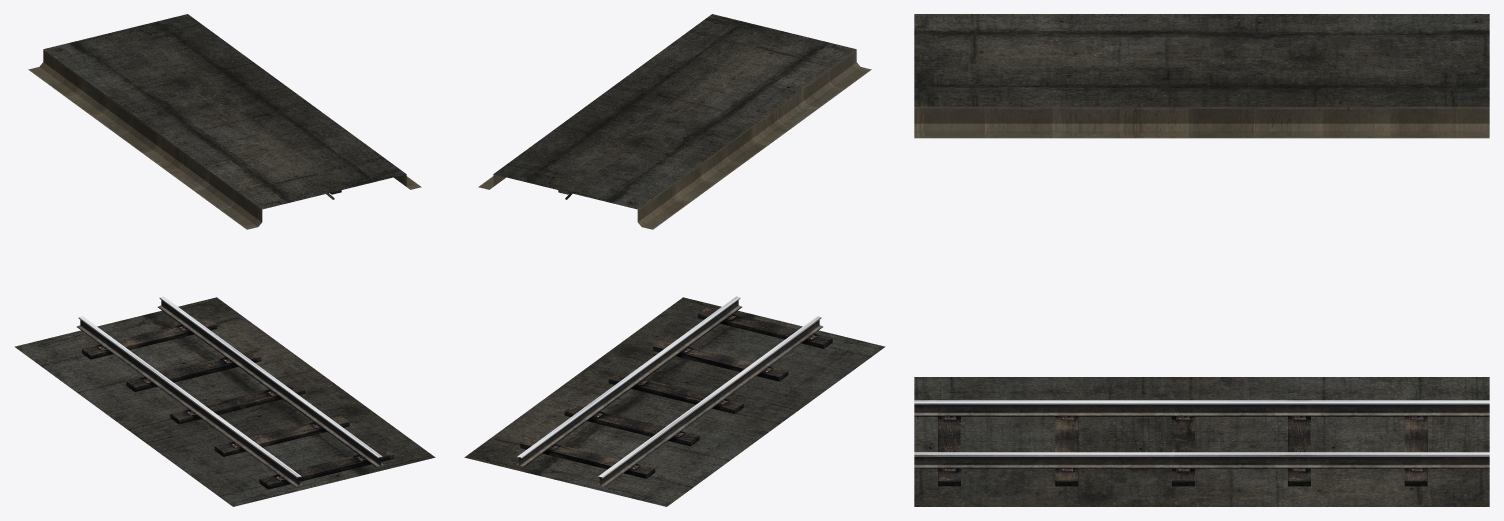
The model's file is TunnelMidA.fbx.
3 views of the same model, side by side, from view 1: azimuth 30°, elevation 25°; view 2: azimuth 150°, elevation 25°; view 3: azimuth 270°, elevation 25° (orthographic). The views are drawn at different scales.
Visible parts, largest first — view 1: TunnelMidA; view 2: TunnelMidA; view 3: TunnelMidA.
Part boxes in pixels (<box>): TunnelMidA: <box>14,14,435,506</box>; TunnelMidA: <box>464,14,885,506</box>; TunnelMidA: <box>914,14,1489,506</box>.
Bounding box in the file's own units: 401 × 556 × 751.
